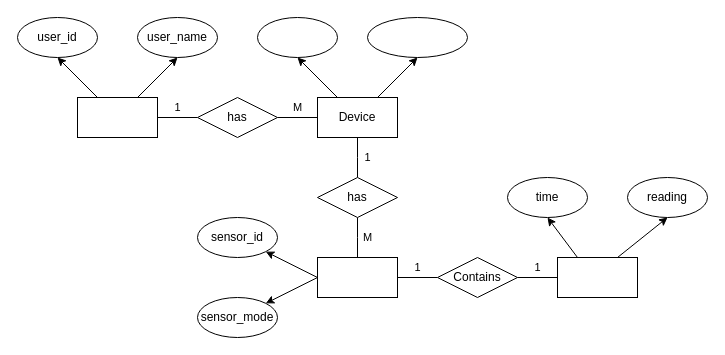
The diagram is 725 pixels wide and 355 high, and some of its shapes have lost their labels. The shapes that lost their labels are listed below. From the top down, each one's centre as x and y in pixels, then its label:
At pixel 297 37: "device_id".
At pixel 417 37: "sensor_details".
At pixel 117 117: "User".
At pixel 357 277: "Sensors".
At pixel 597 277: "Sensor Data".
